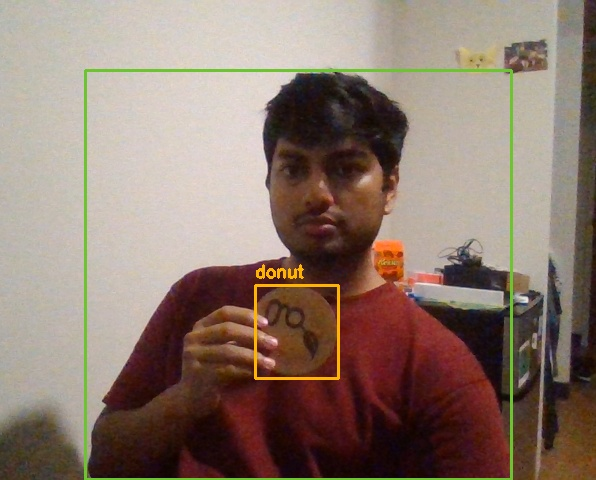donut: (255, 285, 338, 378)
